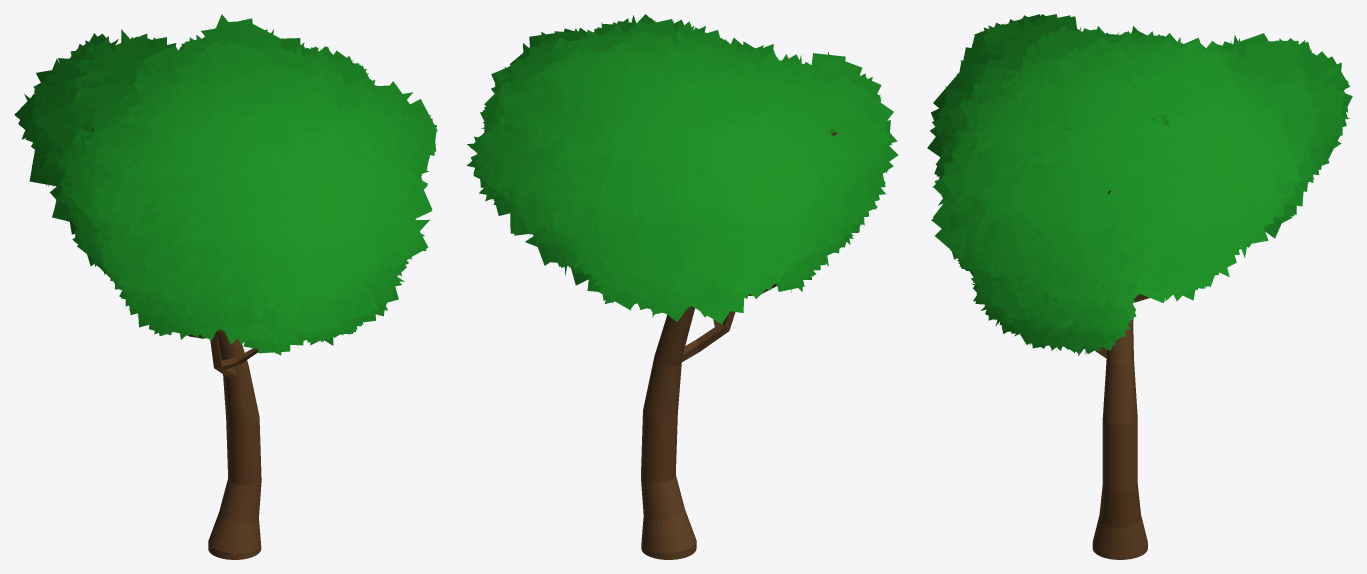
The model's file is Tree.fbx.
3 views of the same model, side by side, from view 1: azimuth 30°, elevation 25°; view 2: azimuth 150°, elevation 25°; view 3: azimuth 270°, elevation 25° (orthographic). The views are drawn at different scales.
Visible parts, largest first — view 1: Leaves, Trunk; view 2: Leaves, Trunk; view 3: Leaves, Trunk.
Boxes of the visible parts, x1=… form: Leaves: x1=14, y1=14, x2=437, y2=355; Trunk: x1=187, y1=329, x2=261, y2=559; Leaves: x1=467, y1=14, x2=898, y2=324; Trunk: x1=641, y1=132, x2=838, y2=559; Leaves: x1=927, y1=14, x2=1352, y2=355; Trunk: x1=1092, y1=190, x2=1149, y2=559.
Bounding box in the file's own units: 3.8 × 5.16 × 3.88.
